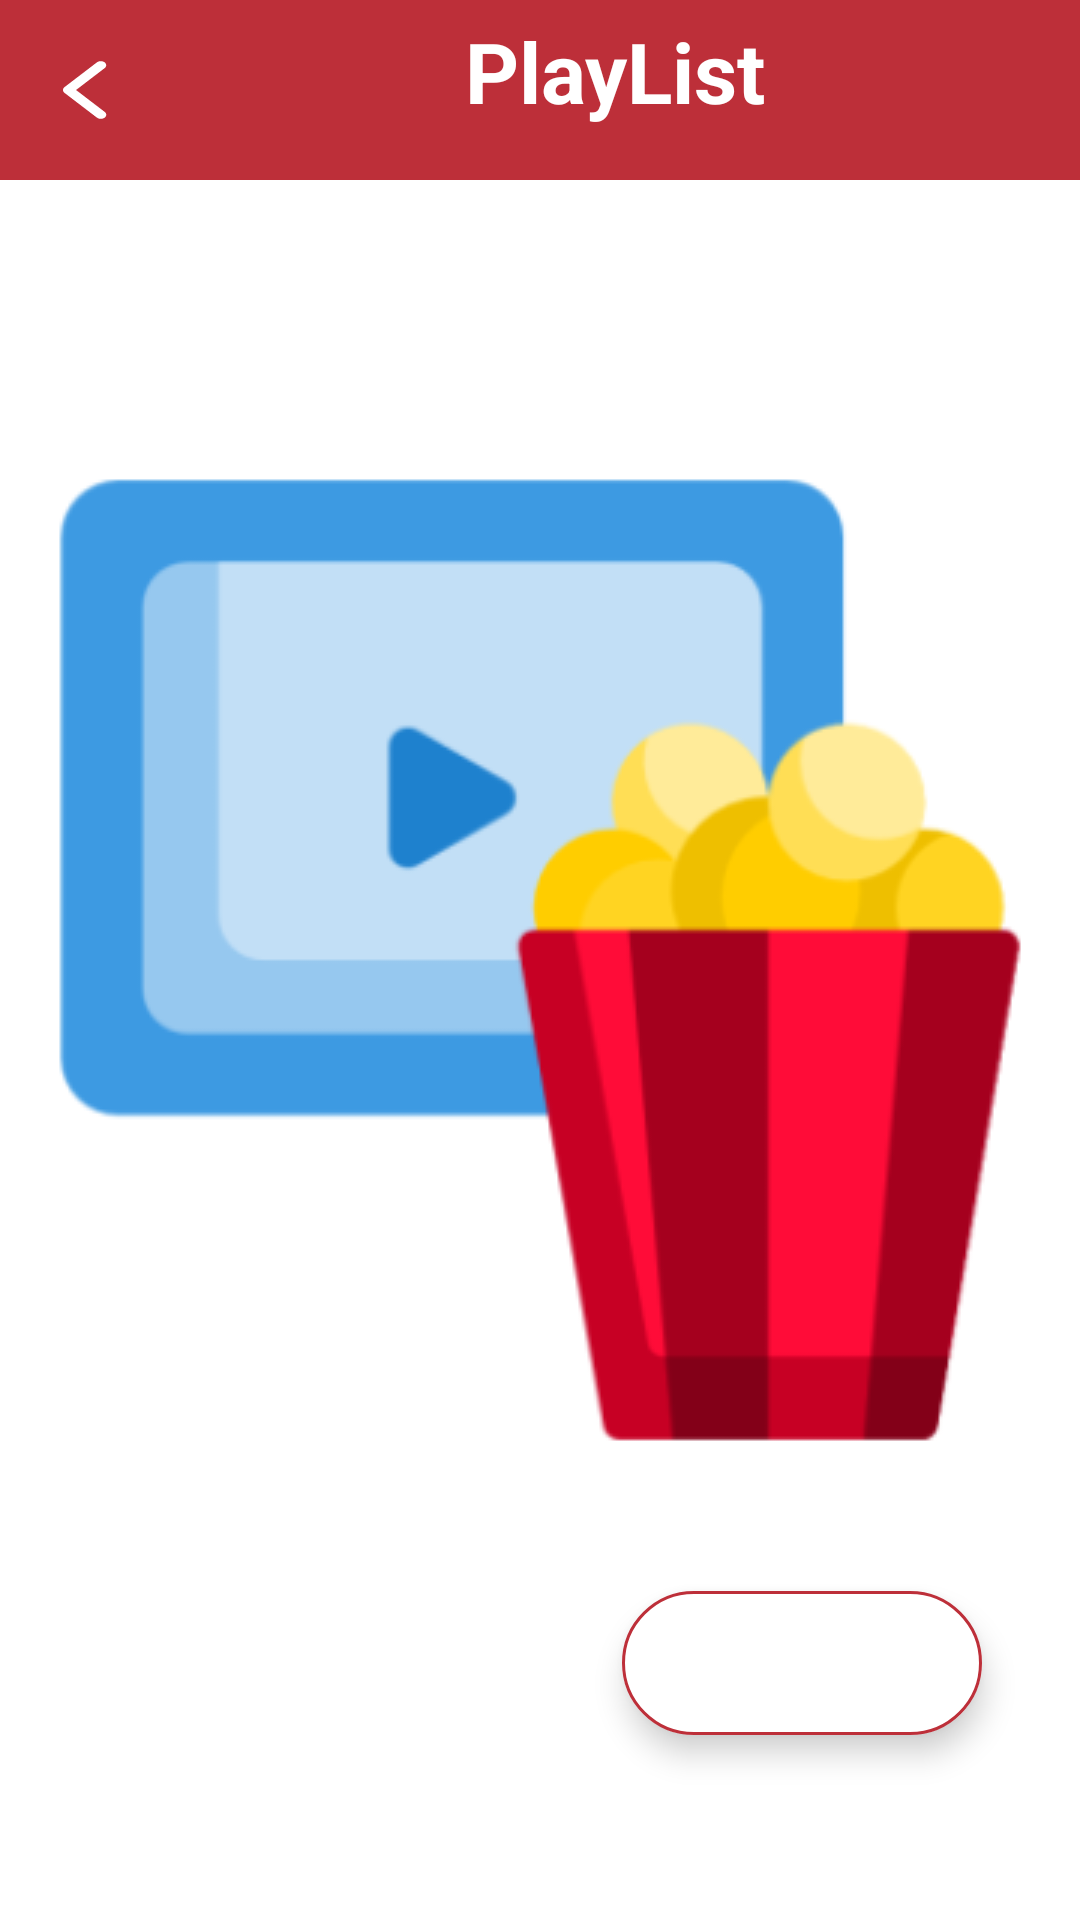

Icons on this 1080*1920 Android screen, each with the point to tap as [x,y]:
back: [85,90]
